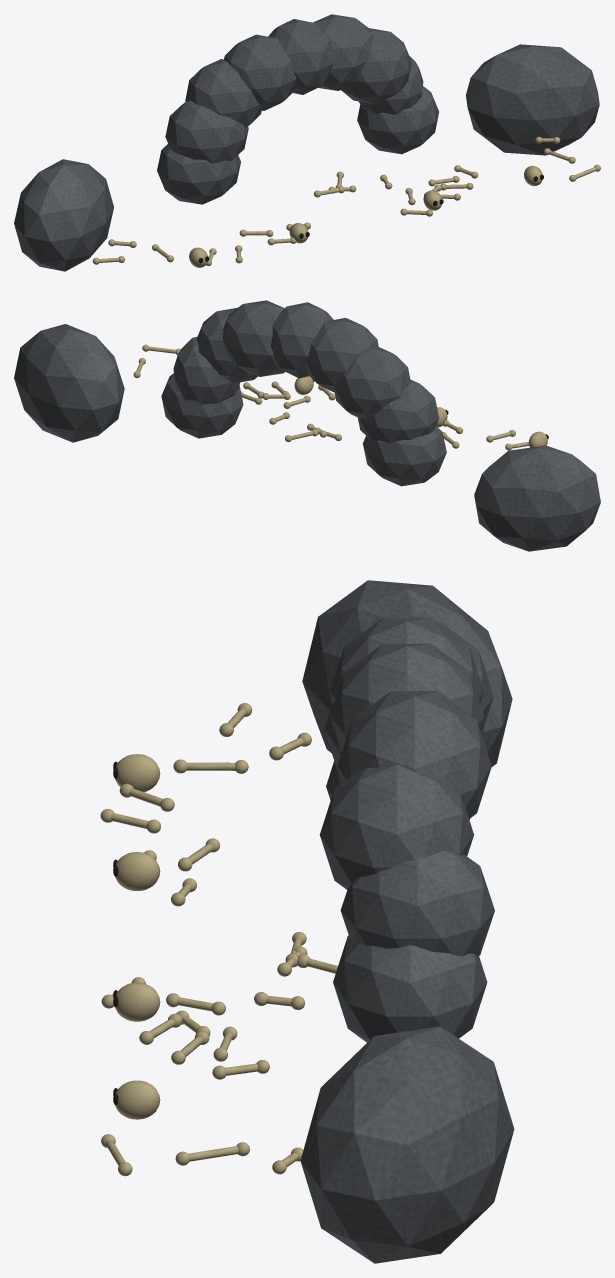
The model's file is dungeonBones-v1.glb.
The picture shows the model from 3 angles, top to bottom: view 1: azimuth 30°, elevation 25°; view 2: azimuth 150°, elevation 25°; view 3: azimuth 270°, elevation 25°; orthographic projection. The views are drawn at different scales.
Visible parts, largest first — view 1: Weathered cave rock, Fractured rock outcrop, Bone end 0 0; view 2: Weathered cave rock, Fractured rock outcrop, Bone end 0 0; view 3: Weathered cave rock, Fractured rock outcrop, Bone end 0 0.
Boxes of the visible parts, x1,y1,x2,y2 form: Weathered cave rock: [157, 14, 438, 204]; Fractured rock outcrop: [14, 44, 599, 271]; Bone end 0 0: [92, 136, 600, 267]; Weathered cave rock: [161, 300, 446, 486]; Fractured rock outcrop: [14, 324, 600, 551]; Bone end 0 0: [133, 344, 547, 450]; Weathered cave rock: [319, 617, 494, 1042]; Fractured rock outcrop: [300, 580, 514, 1263]; Bone end 0 0: [100, 703, 337, 1176].
Size of what is drawn, in the model's own units: 17.24 by 5.39 by 5.36.
Materials: 3 (3 with a texture image).
